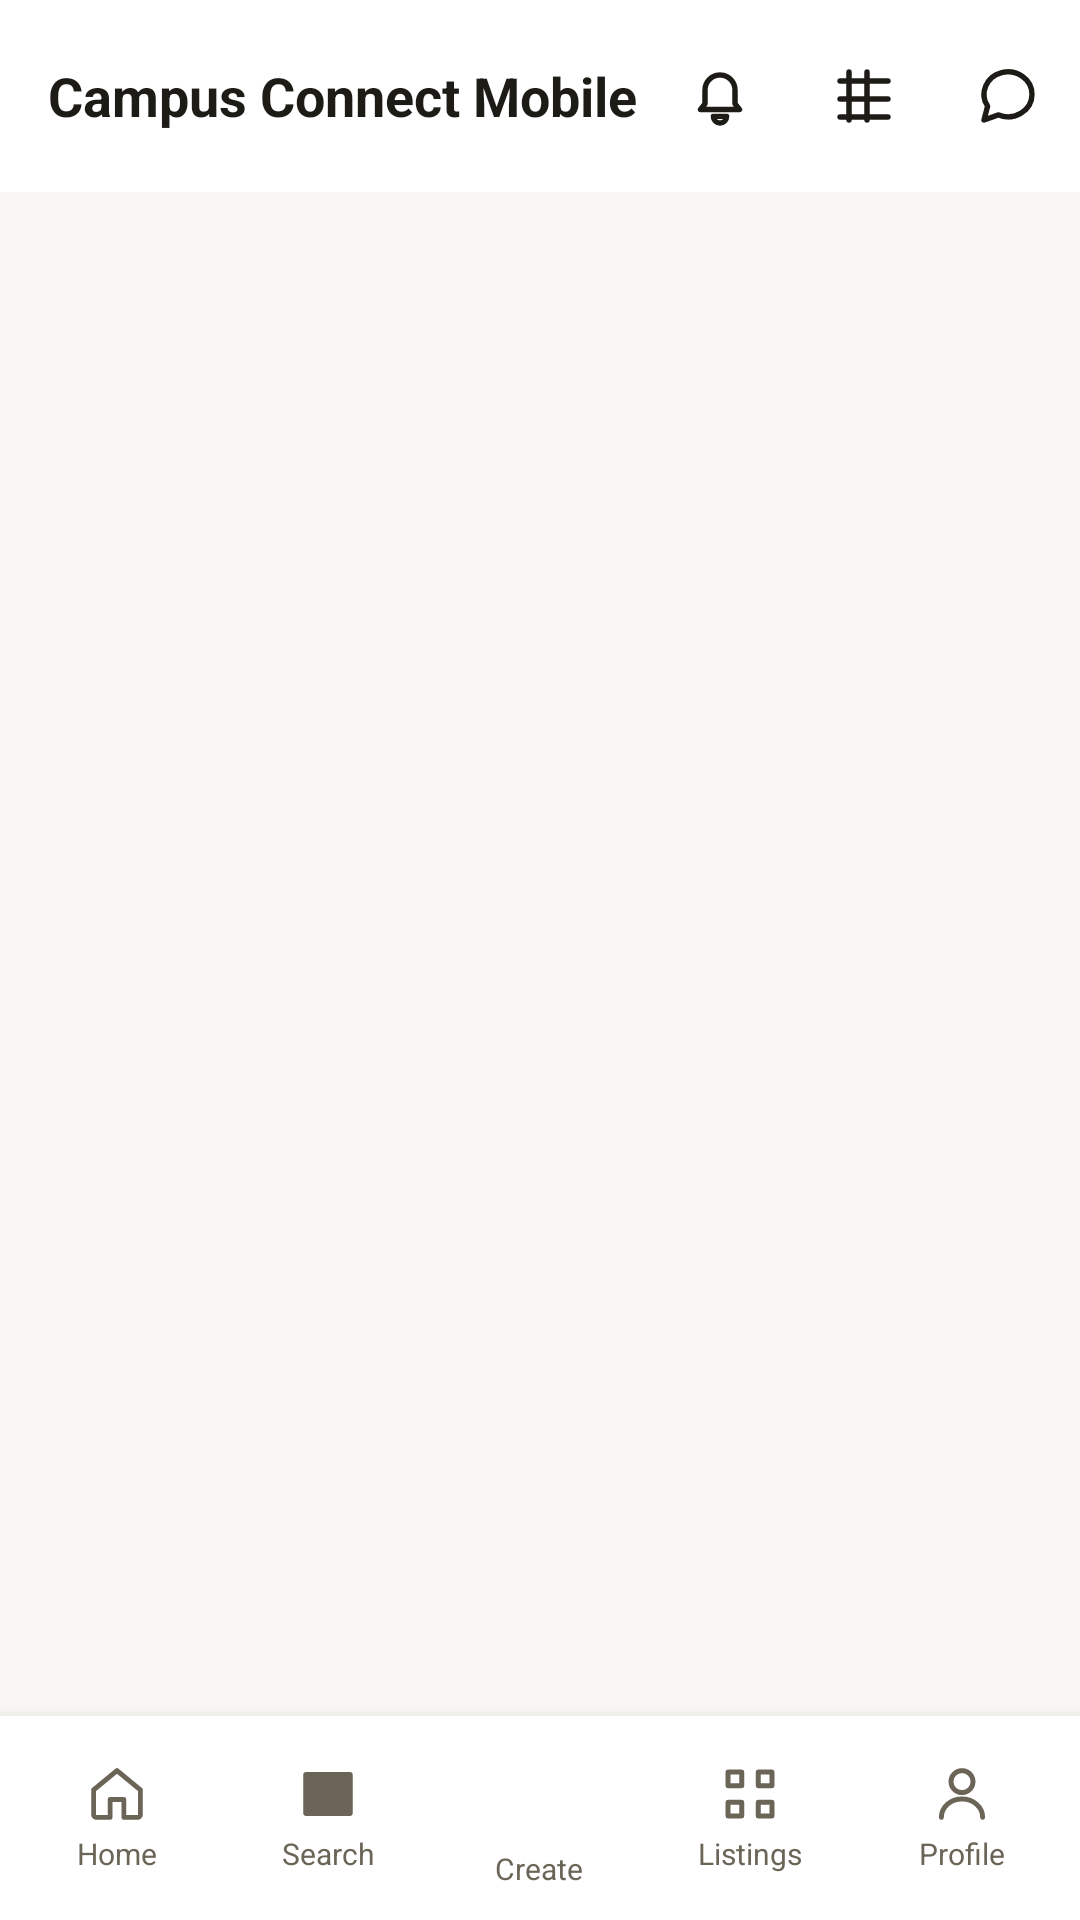

Locate icon controls on the screen. Image size 1080px×1920px, boxes as region(x1, y1, x2, y2).
messages: region(981, 69, 1035, 123)
notifications: region(697, 72, 743, 126)
